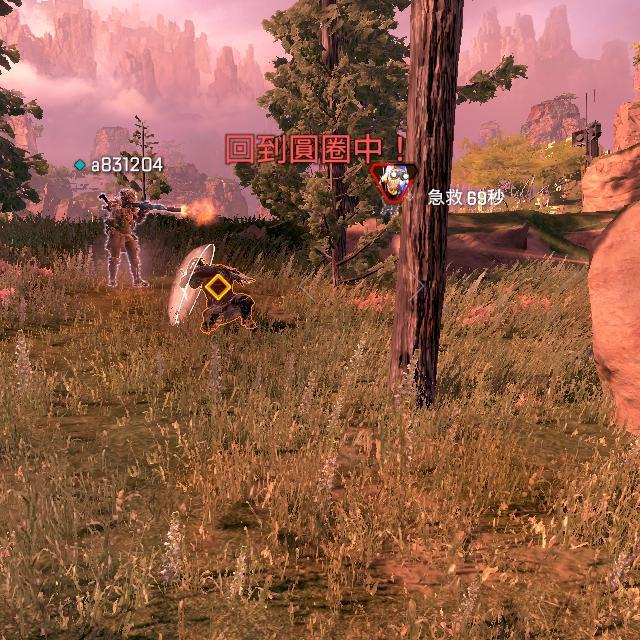avatar: (102, 187, 150, 291)
object: (204, 272, 233, 302)
